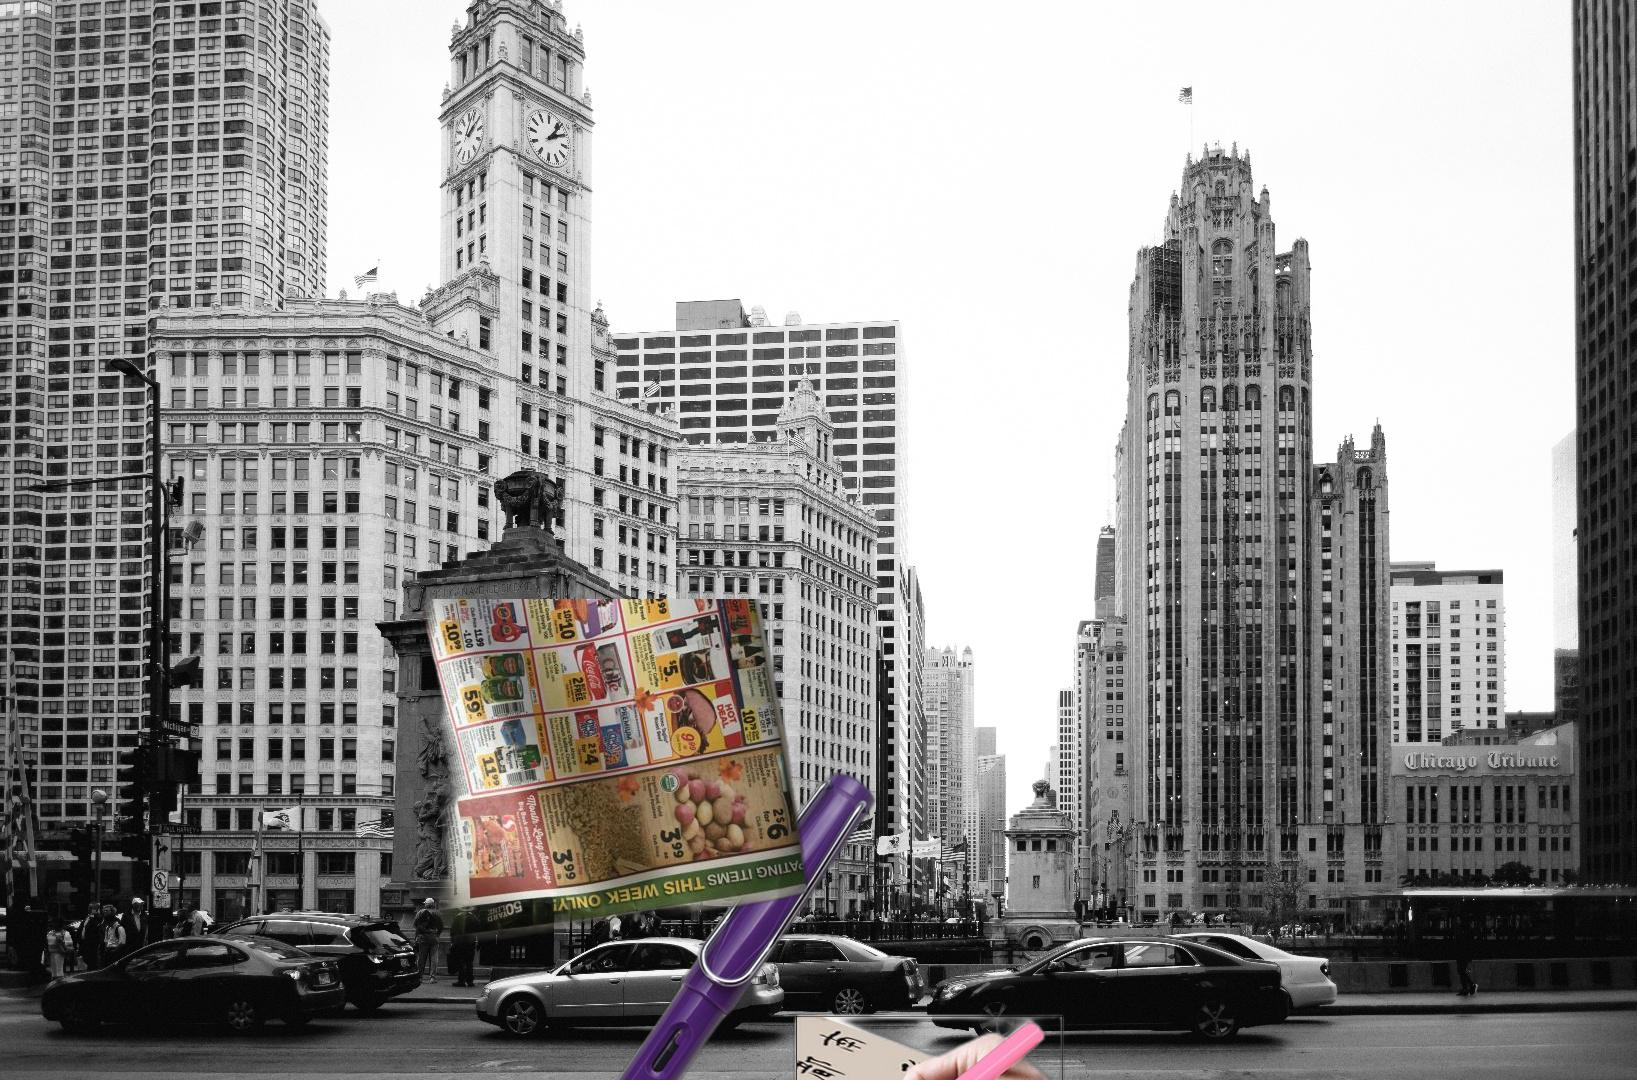paper: (400, 599, 812, 952)
penholder: (505, 768, 1070, 1080)
